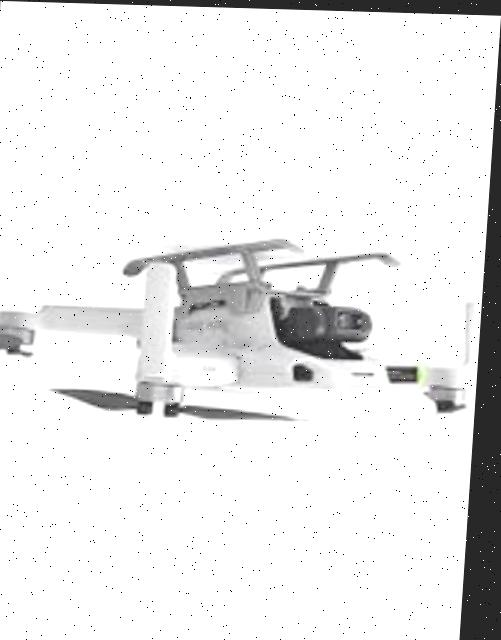drone: (0, 216, 490, 465)
